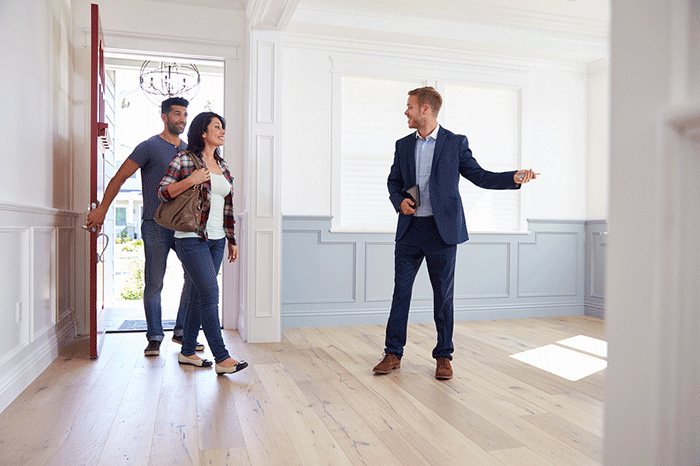Bad: (87, 89, 264, 381)
Caution: (186, 70, 545, 395)
